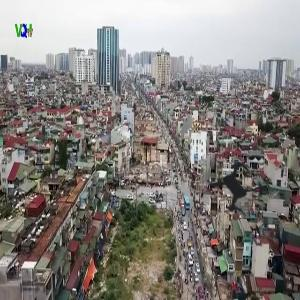drone: (177, 131, 296, 250)
